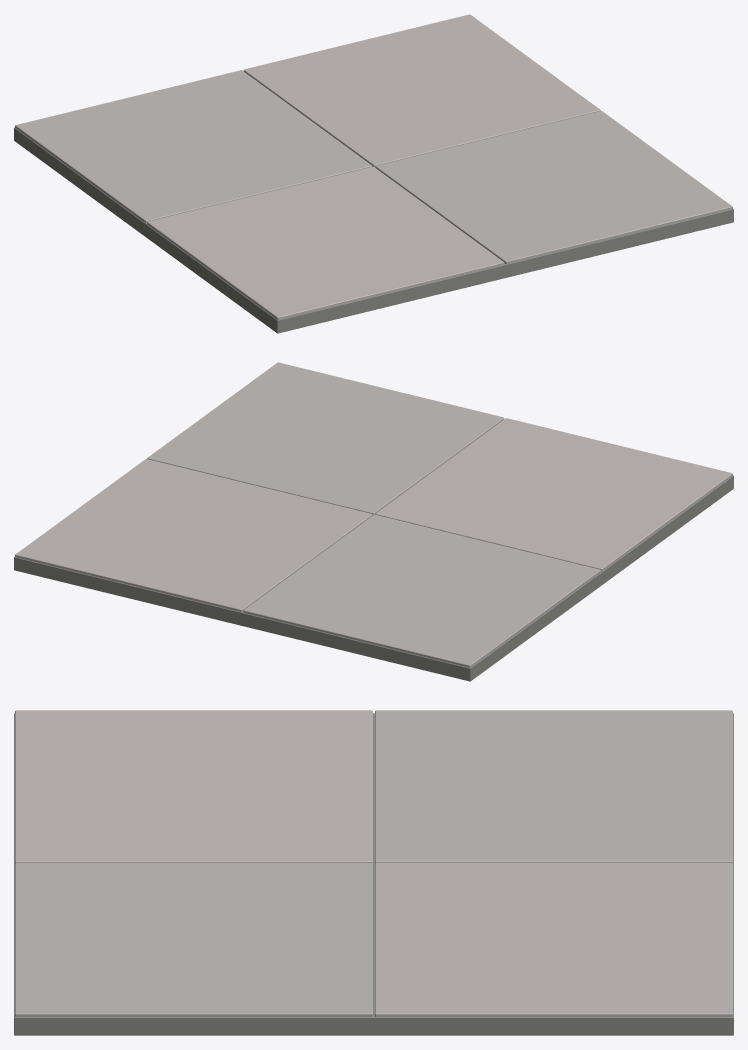
Rendered from desktop.glb.
The picture shows the model from 3 angles, top to bottom: view 1: azimuth 30°, elevation 25°; view 2: azimuth 150°, elevation 25°; view 3: azimuth 270°, elevation 25°; orthographic projection. The views are drawn at different scales.
Size of the model in its own units: 3 by 0.1 by 3.
Materials: 1 (1 with a texture image).
